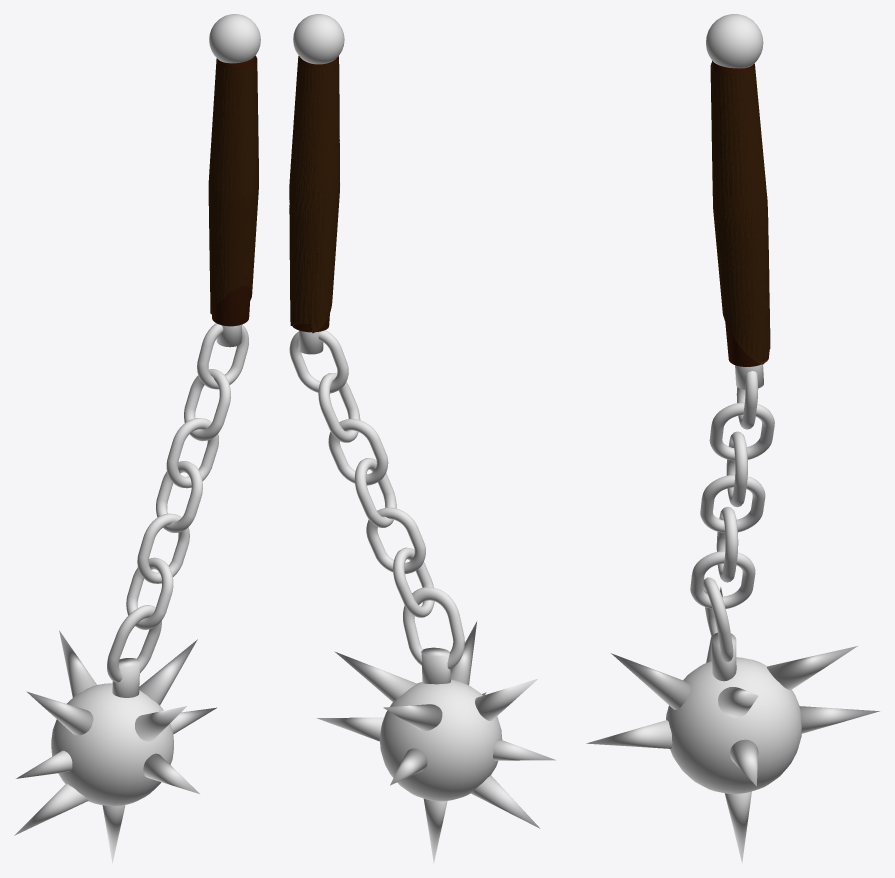
Rendered from Mace.fbx.
3 renders of one model, left to right at view 1: azimuth 30°, elevation 25°; view 2: azimuth 150°, elevation 25°; view 3: azimuth 270°, elevation 25°, orthographic. The views are drawn at different scales.
Visible parts, largest first — view 1: Cylinder.003, Cylinder.002, Cylinder.004, Torus, Torus.002, Torus.004, Torus.005, Torus.003, Torus.001, Torus.006, Cylinder; view 2: Cylinder.003, Cylinder.002, Cylinder.004, Torus, Torus.004, Torus.002, Torus.006, Torus.005, Torus.003, Torus.001, Cylinder.001; view 3: Cylinder.003, Cylinder.002, Cylinder.004, Torus.003, Torus.005, Torus.001, Torus, Torus.002, Torus.004, Torus.006, Cylinder.
Part boxes in pixels (<box>): Cylinder.003: <box>14,630,216,863</box>; Cylinder.002: <box>208,56,258,314</box>; Cylinder.004: <box>209,14,260,63</box>; Torus: <box>107,605,161,682</box>; Torus.002: <box>137,513,189,583</box>; Torus.004: <box>166,418,218,488</box>; Torus.005: <box>184,369,230,441</box>; Torus.003: <box>156,461,202,532</box>; Torus.001: <box>126,557,173,629</box>; Torus.006: <box>197,323,248,389</box>; Cylinder: <box>212,56,255,326</box>; Cylinder.003: <box>316,621,555,863</box>; Cylinder.002: <box>289,56,339,333</box>; Cylinder.004: <box>293,14,344,64</box>; Torus: <box>403,587,464,669</box>; Torus.004: <box>328,419,388,485</box>; Torus.002: <box>366,507,425,574</box>; Torus.006: <box>289,330,348,393</box>; Torus.005: <box>318,373,360,442</box>; Torus.003: <box>354,458,396,527</box>; Torus.001: <box>393,547,434,617</box>; Cylinder.001: <box>298,330,323,354</box>; Cylinder.003: <box>586,587,879,863</box>; Cylinder.002: <box>710,62,770,364</box>; Cylinder.004: <box>706,14,763,68</box>; Torus.003: <box>700,474,765,532</box>; Torus.005: <box>709,402,774,460</box>; Torus.001: <box>690,551,755,608</box>; Torus: <box>703,577,733,661</box>; Torus.002: <box>716,507,738,582</box>; Torus.004: <box>726,431,747,507</box>; Torus.006: <box>736,371,758,429</box>; Cylinder: <box>712,61,768,366</box>.
Bounding box in the file's own units: 293 × 907 × 266.
